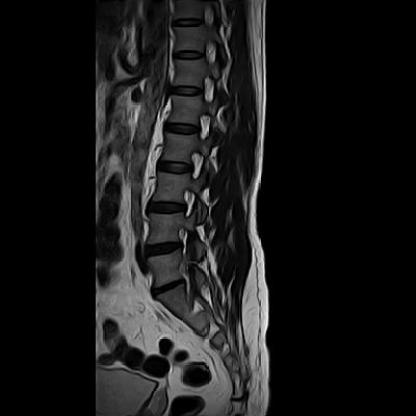Disc Bulgerotation: (142, 239, 185, 261), (150, 279, 189, 297)
